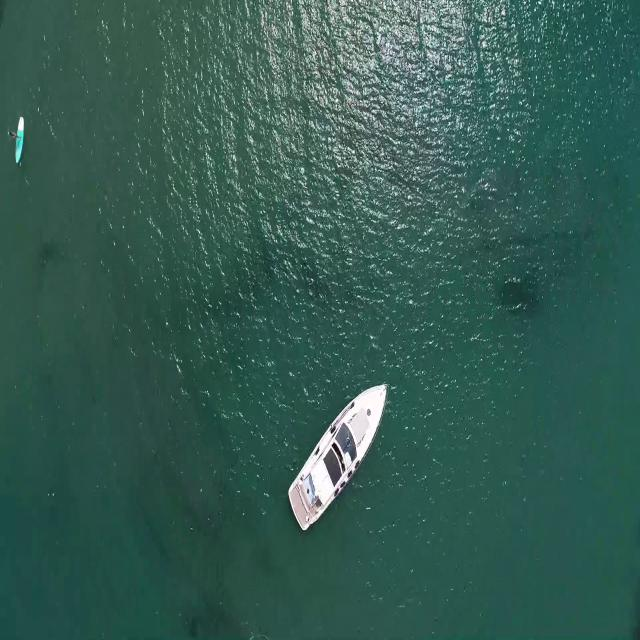boat: (282, 381, 389, 531)
person: (11, 125, 24, 142)
surfboard: (16, 115, 27, 162)
